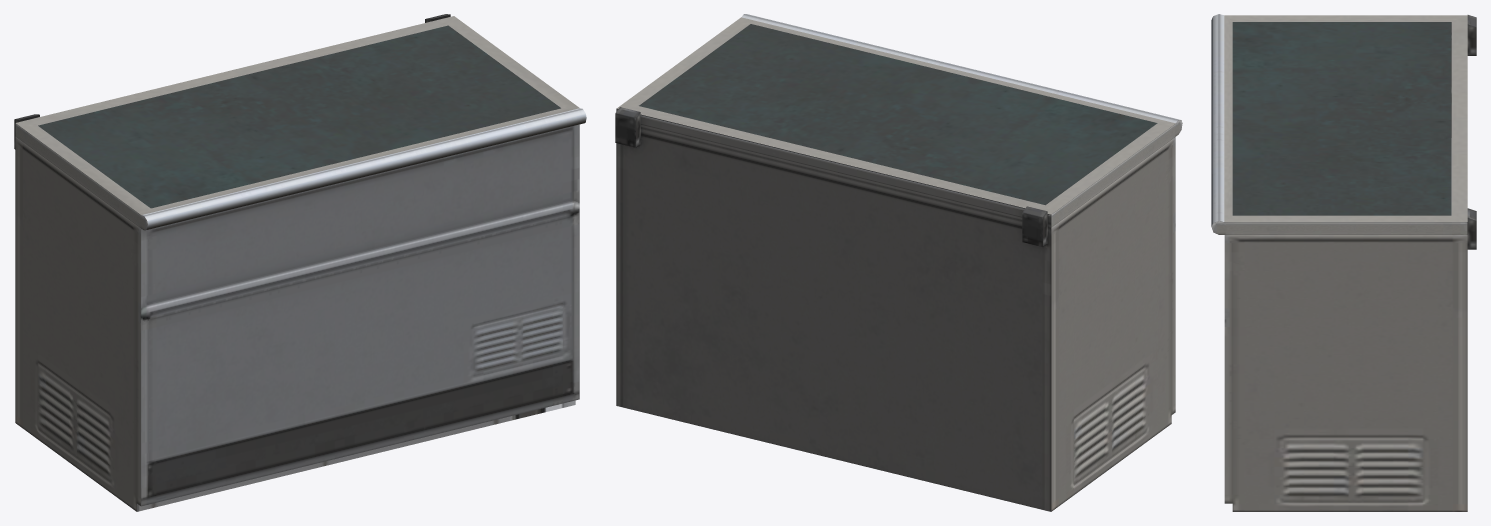
The model's file is Freezer.fbx.
The picture shows the model from 3 angles, left to right: view 1: azimuth 30°, elevation 25°; view 2: azimuth 150°, elevation 25°; view 3: azimuth 270°, elevation 25°; orthographic projection. The views are drawn at different scales.
Parts seen in each view (by area): view 1: Freezer, Freezer_Door; view 2: Freezer, Freezer_Door; view 3: Freezer, Freezer_Door.
Boxes of the visible parts, bbox=[...] form: Freezer: bbox=[14, 14, 579, 511]; Freezer_Door: bbox=[15, 16, 586, 230]; Freezer: bbox=[615, 107, 1175, 511]; Freezer_Door: bbox=[616, 14, 1182, 227]; Freezer: bbox=[1224, 15, 1476, 511]; Freezer_Door: bbox=[1211, 14, 1467, 234].
Size of the model in its own units: 144 by 94.88 by 78.
Materials: 2 (2 with a texture image).
